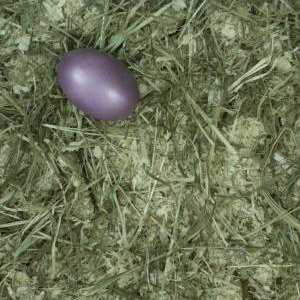egg: (56, 48, 139, 121)
